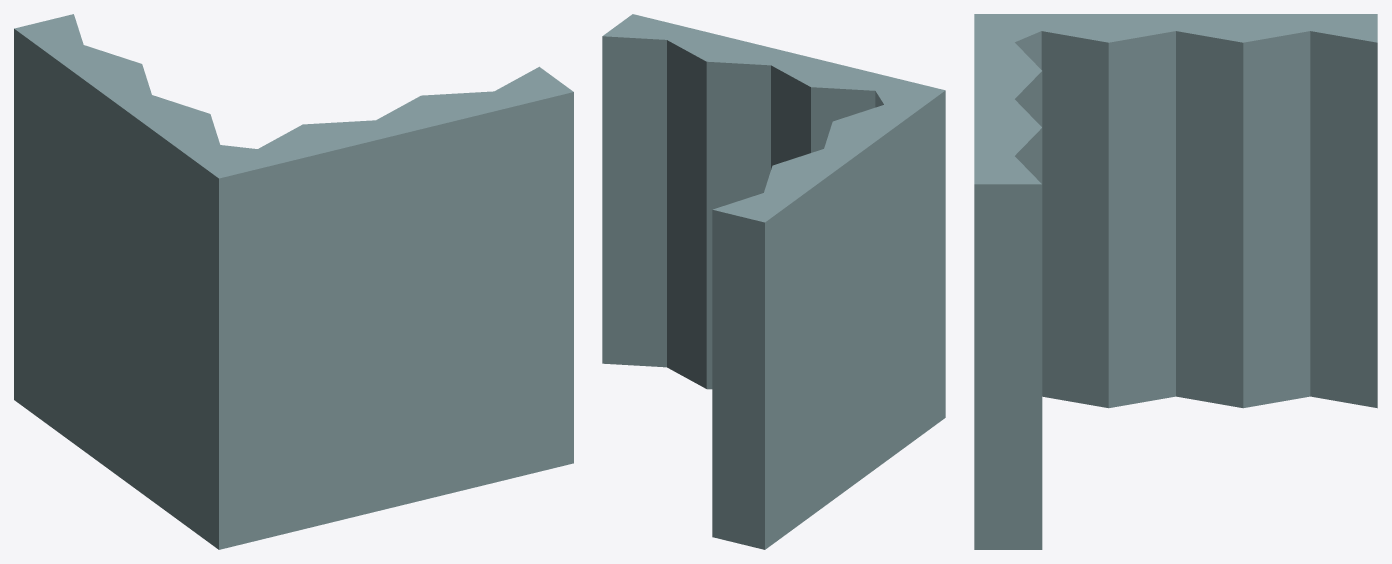
File: cliff_cornerInner_stone.glb
3 renders of one model, left to right at view 1: azimuth 30°, elevation 25°; view 2: azimuth 150°, elevation 25°; view 3: azimuth 270°, elevation 25°, orthographic. The views are drawn at different scales.
Parts seen in each view (by area): view 1: cliff_cornerInner_stone; view 2: cliff_cornerInner_stone; view 3: cliff_cornerInner_stone.
Part boxes in pixels (x1,y1,x2,y2): cliff_cornerInner_stone: (14,14,573,549); cliff_cornerInner_stone: (602,14,945,549); cliff_cornerInner_stone: (974,14,1377,549).
Bounding box in the file's own units: 1 × 1 × 1.
